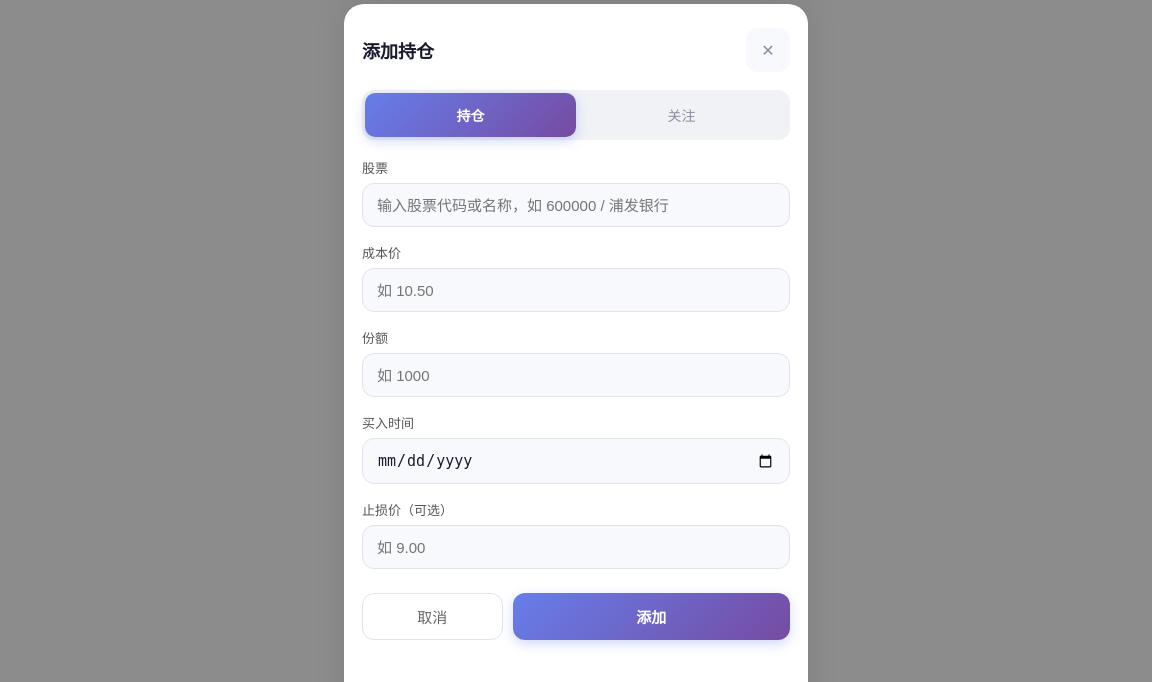
Test case: PositionForm - Add Mode › shows validation errors for empty holding form
What coordinates should you click on to do the following:
click the button "添加"
I would click on:
 (651, 616)
Its box is [513,593,790,640].
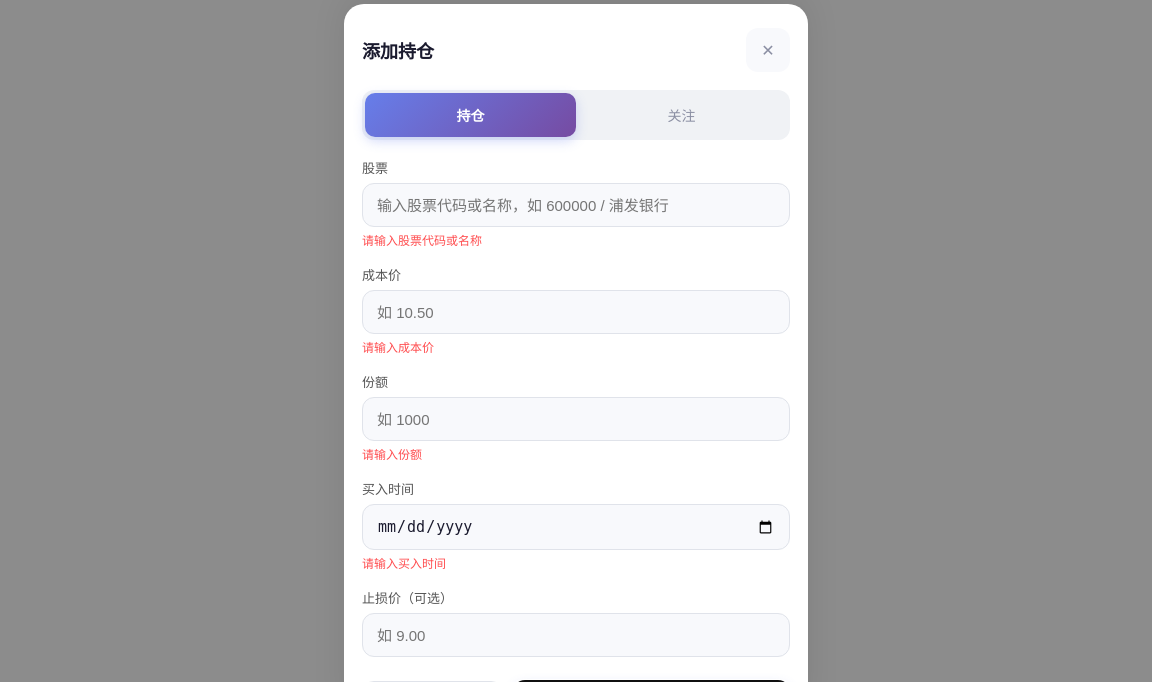
Expected: the text "请输入股票代码或名称" is shown, [362,234,482,248]
Expected: the text "请输入成本价" is shown, [362,341,434,355]
Expected: the text "请输入份额" is shown, [362,448,422,462]
